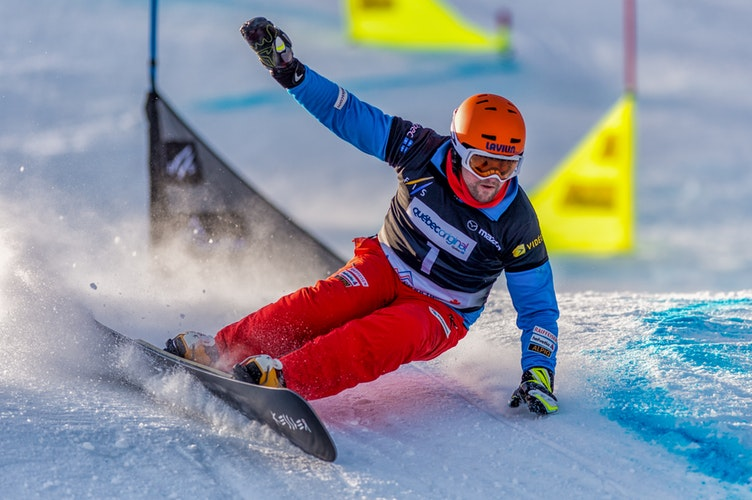helmet: (453, 91, 537, 210)
